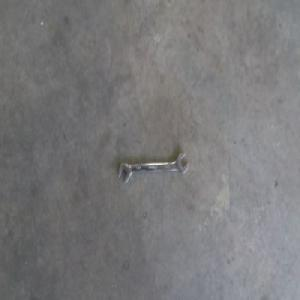Wrench: (118, 154, 188, 183)
